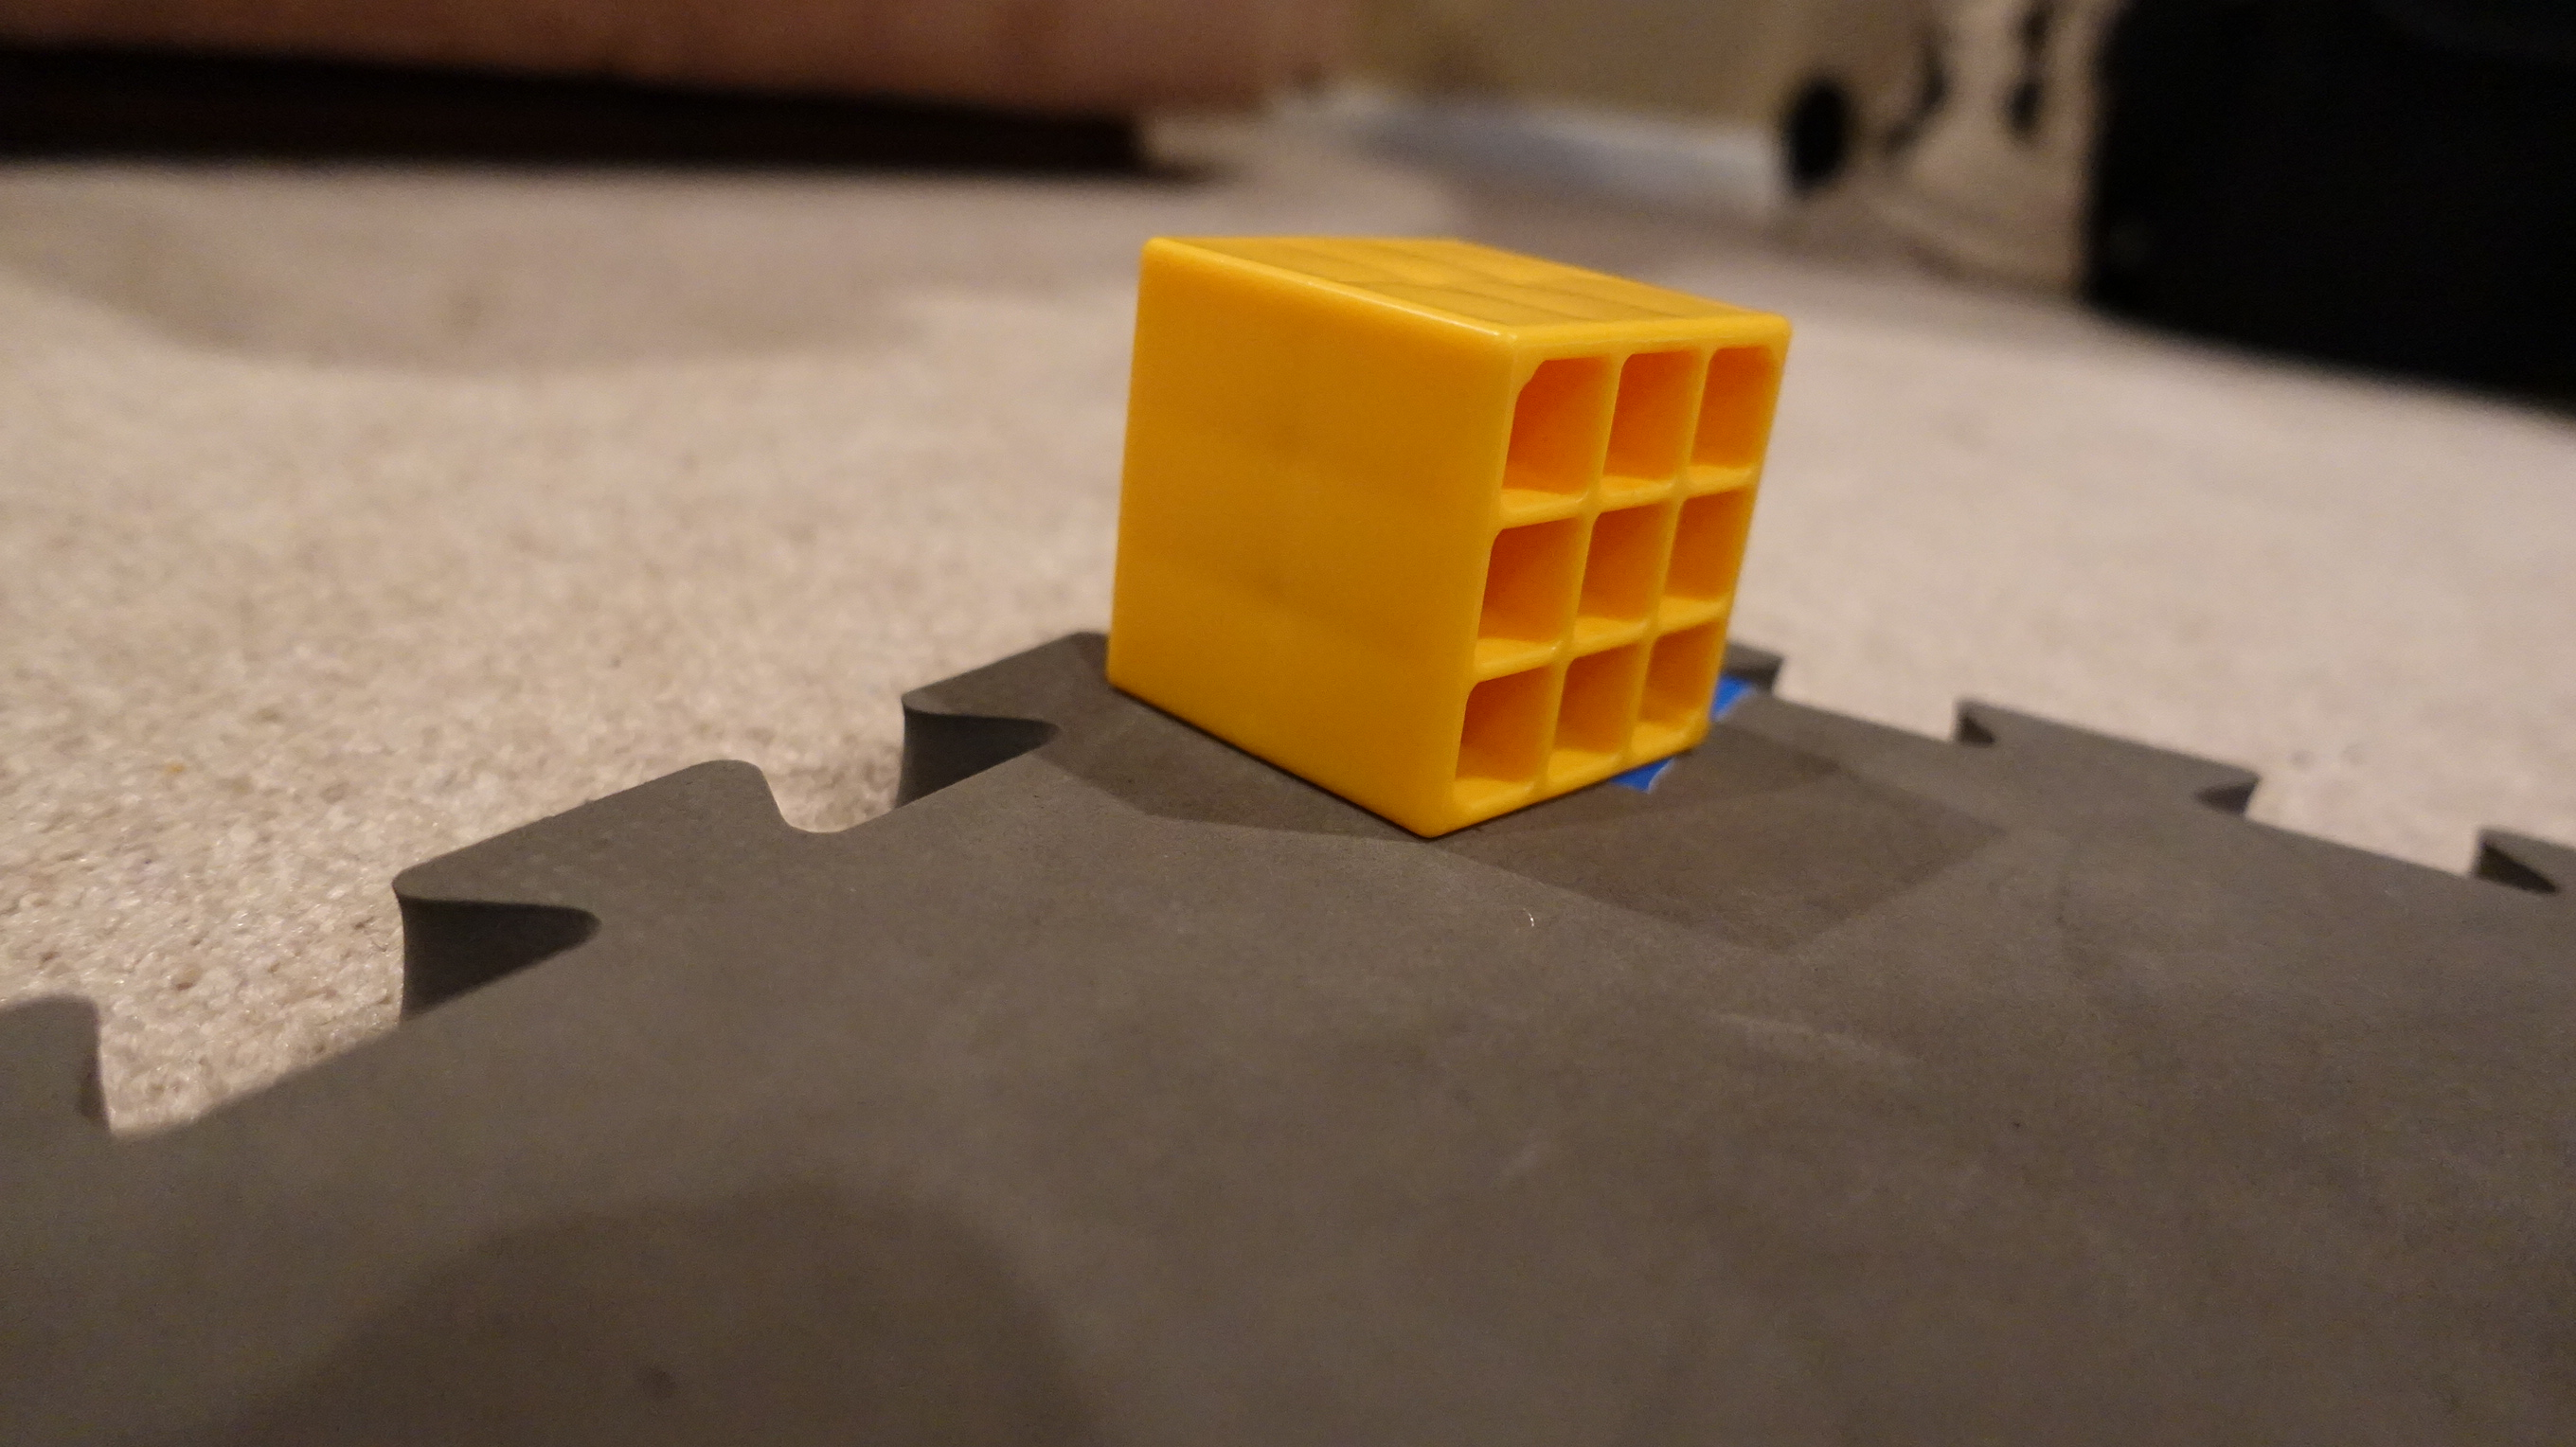gold: (1095, 207, 1787, 844)
